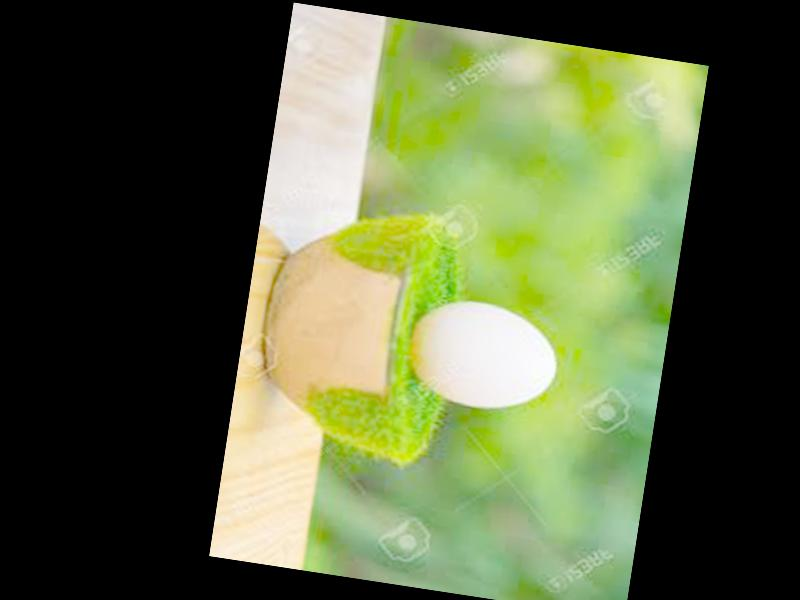Eggs: (403, 291, 561, 415)
